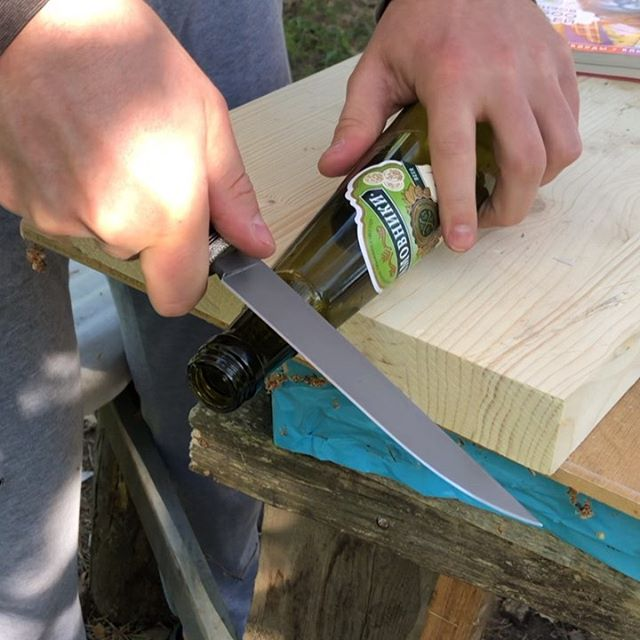knife: (208, 234, 544, 527)
